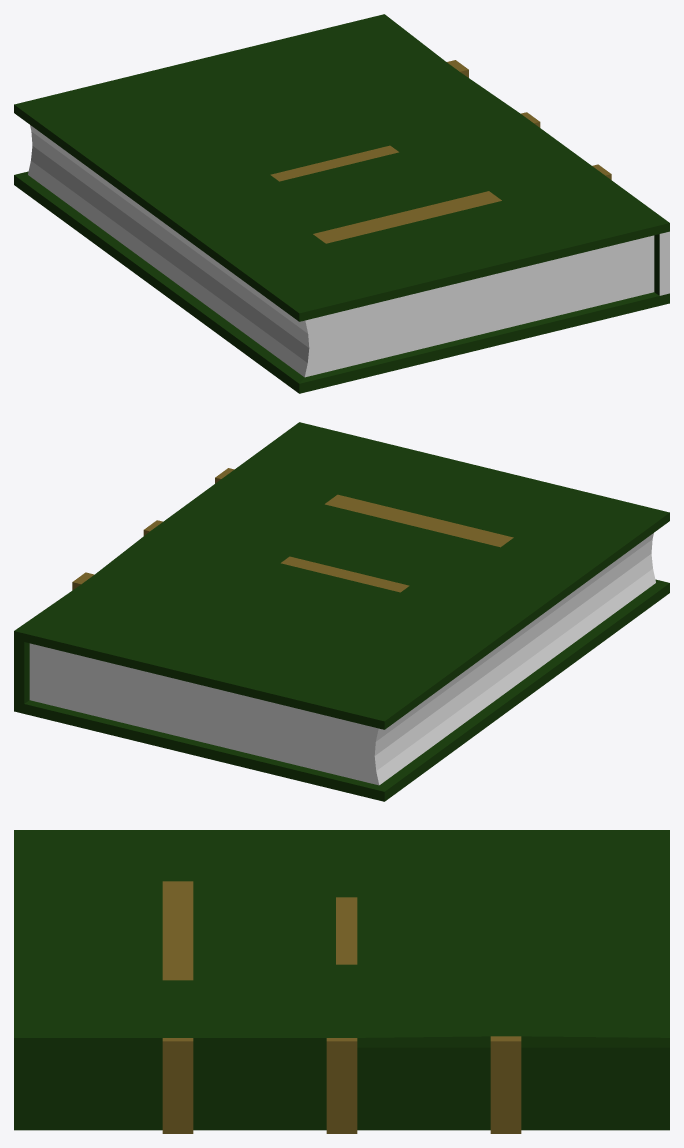
The model's file is book.glb.
3 views of the same model, one above another, from view 1: azimuth 30°, elevation 25°; view 2: azimuth 150°, elevation 25°; view 3: azimuth 270°, elevation 25° (orthographic). The views are drawn at different scales.
Parts seen in each view (by area): view 1: Cube.003; view 2: Cube.003; view 3: Cube.003.
Boxes of the visible parts, x1=… form: Cube.003: x1=14, y1=14, x2=669, y2=393; Cube.003: x1=14, y1=422, x2=669, y2=801; Cube.003: x1=14, y1=830, x2=669, y2=1133.
Size of the model in its own units: 2.03 by 0.4149 by 2.67.
